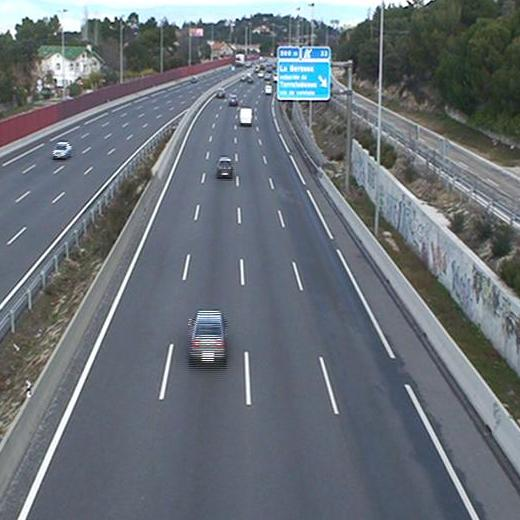car: (188, 309, 229, 361), (216, 157, 234, 178), (215, 88, 227, 98), (229, 95, 239, 105)
van: (237, 108, 253, 124)
